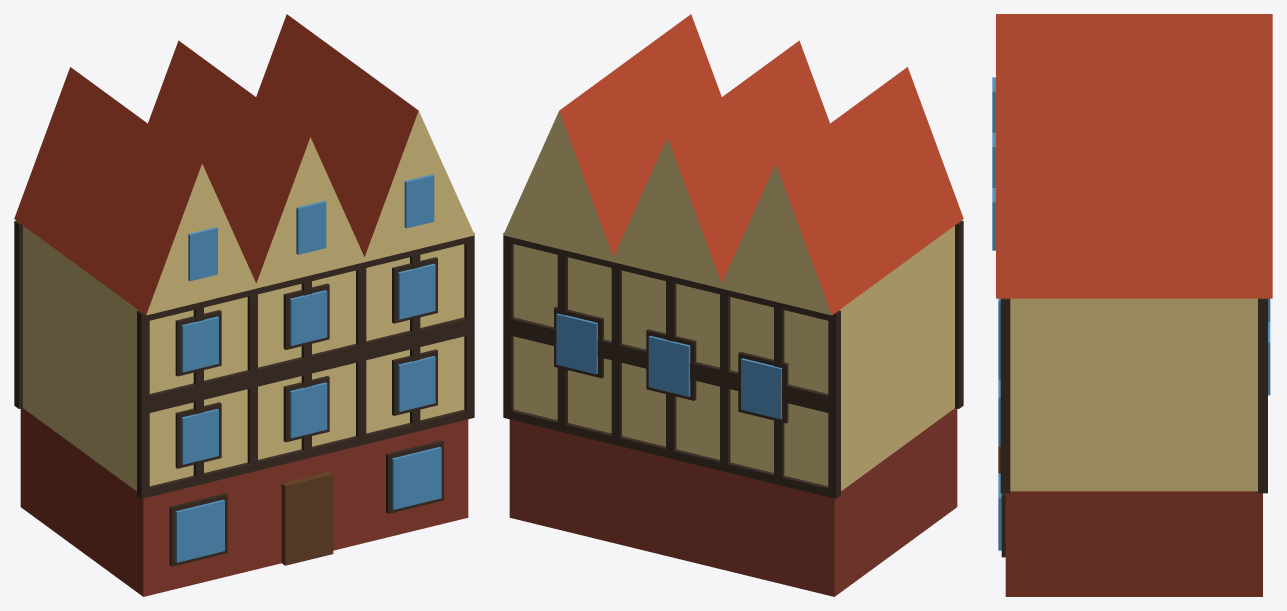
The model's file is 38_kgd_fishing_village_2.obj.
3 renders of one model, left to right at view 1: azimuth 30°, elevation 25°; view 2: azimuth 150°, elevation 25°; view 3: azimuth 270°, elevation 25°, orthographic. The views are drawn at different scales.
Parts seen in each view (by area): view 1: 38_kgd_fishing_village_2; view 2: 38_kgd_fishing_village_2; view 3: 38_kgd_fishing_village_2.
Part boxes in pixels (left/top/right/bottom): 38_kgd_fishing_village_2: left=14, top=14, right=474, bottom=596; 38_kgd_fishing_village_2: left=503, top=14, right=963, bottom=596; 38_kgd_fishing_village_2: left=992, top=14, right=1272, bottom=596.
Bounding box in the file's own units: 1.66 × 2.02 × 1.15.
